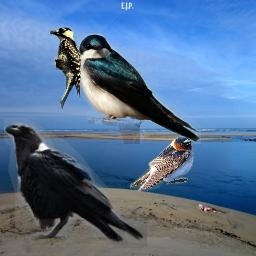Crow: (4, 118, 147, 248)
Swallow: (77, 33, 201, 144), (130, 136, 194, 193)
Woodpecker: (48, 27, 83, 110)
